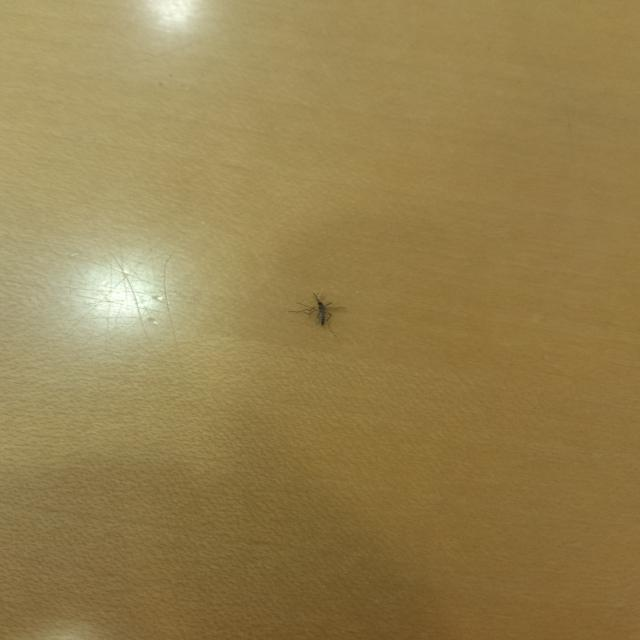albopictus: (286, 289, 346, 339)
